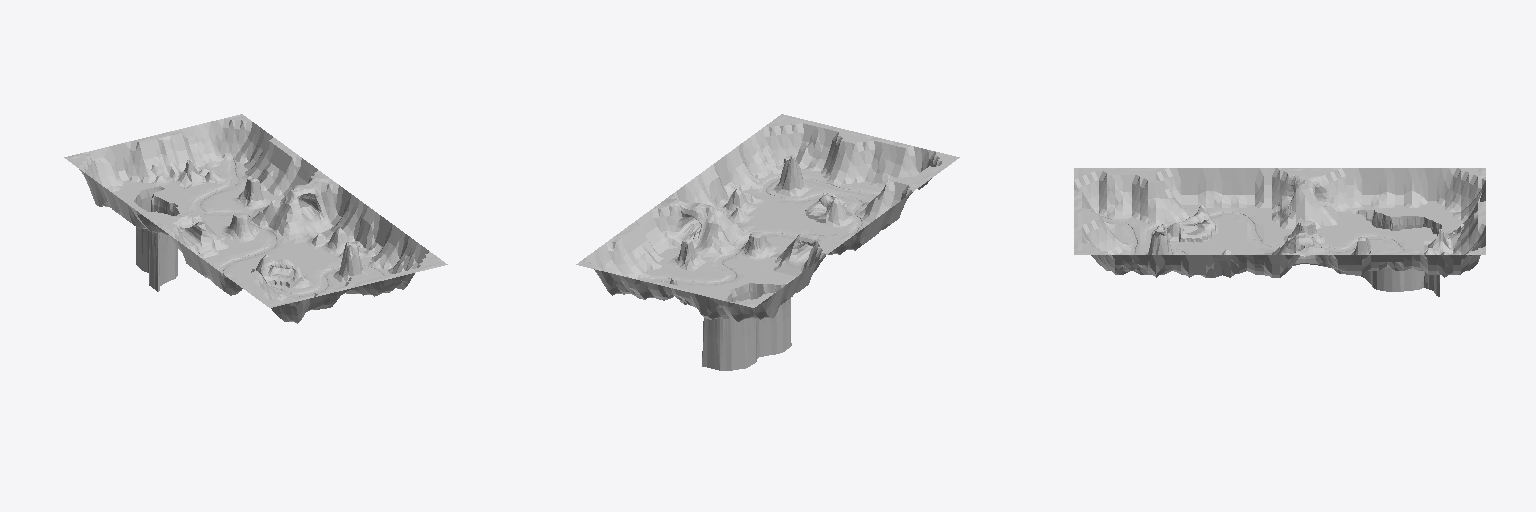
The model's file is canyon.obj.
3 views of the same model, side by side, from view 1: azimuth 30°, elevation 25°; view 2: azimuth 150°, elevation 25°; view 3: azimuth 270°, elevation 25° (orthographic).
Visible parts, largest first — view 1: level; view 2: level; view 3: level.
Part boxes in pixels (bbox=[...]): level: bbox=[64, 114, 447, 323]; level: bbox=[576, 114, 959, 370]; level: bbox=[1074, 168, 1485, 296].
Bounding box in the file's own units: 1500 × 778 × 3000.